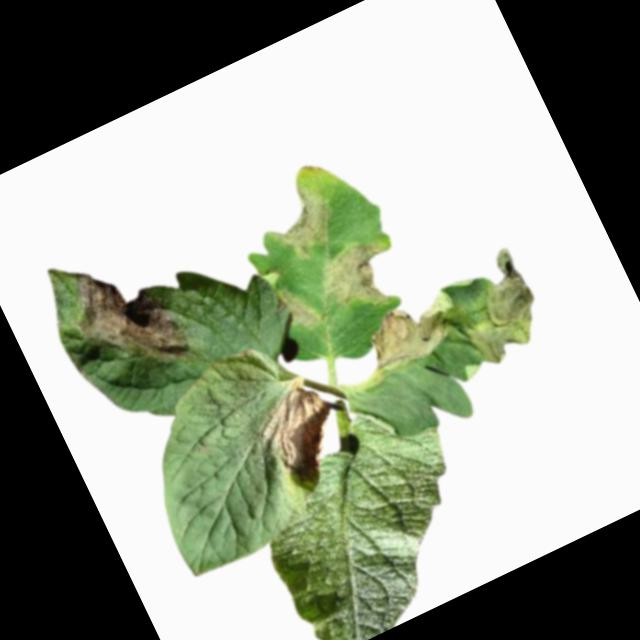Late_blight: (57, 239, 198, 396), (440, 244, 555, 371), (240, 373, 355, 497), (350, 283, 470, 384), (304, 226, 414, 328), (249, 176, 345, 271), (266, 280, 323, 341)
